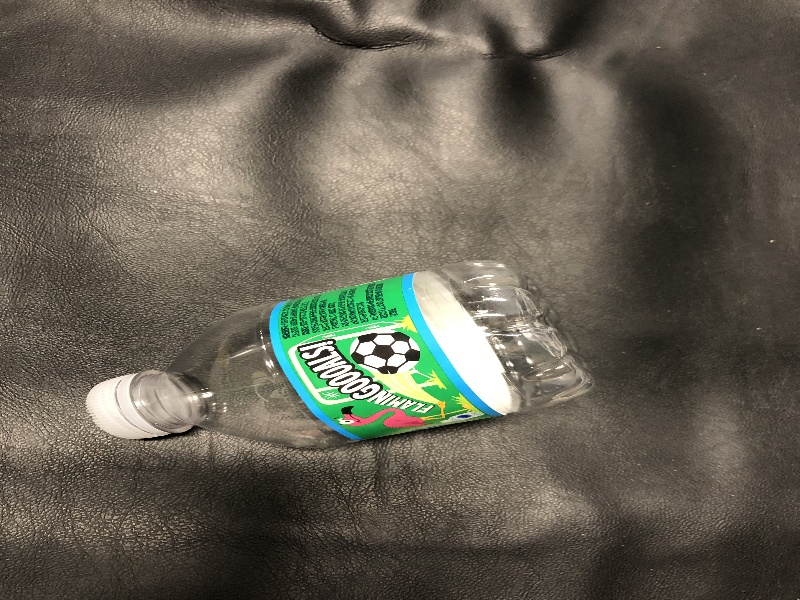plastic: (73, 249, 601, 473)
